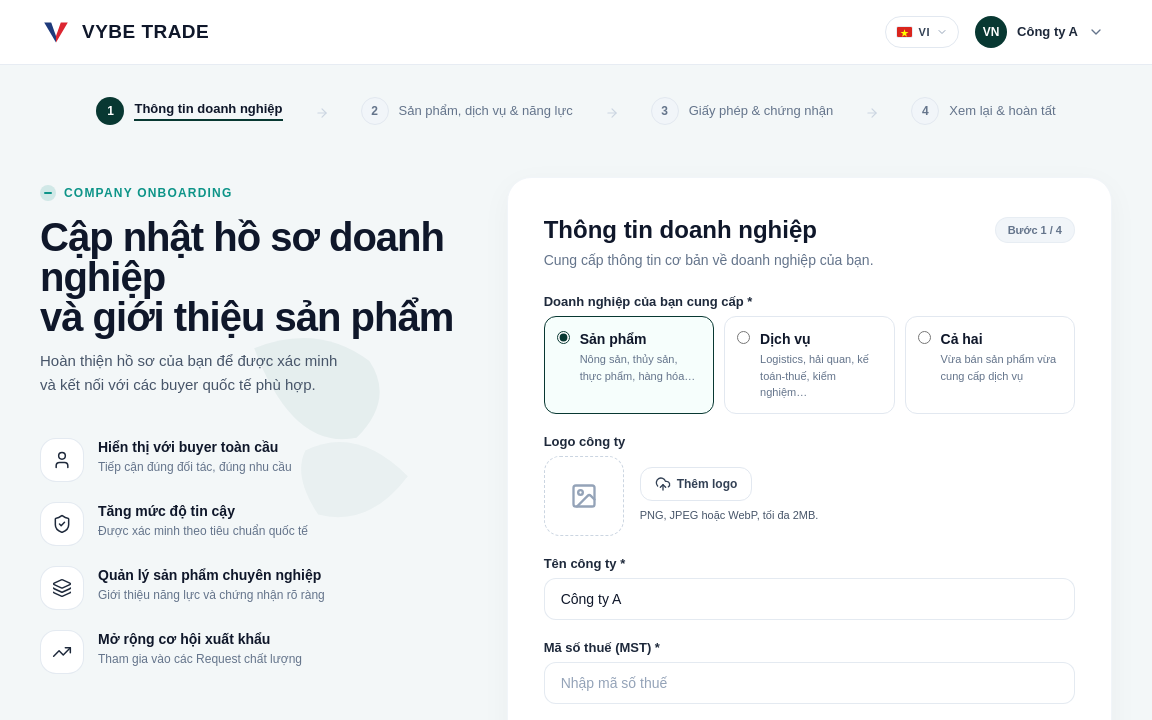
Scenario: A2 — wizard lưu nháp từng bước › bước 1: bấm Tiếp tục lưu công ty lên server rồi mới sang bước 2
In the field with placeholder "Nhập mã số thuế": (809, 682) [544, 662, 1075, 704], type "0312345678"
(page scrolled)
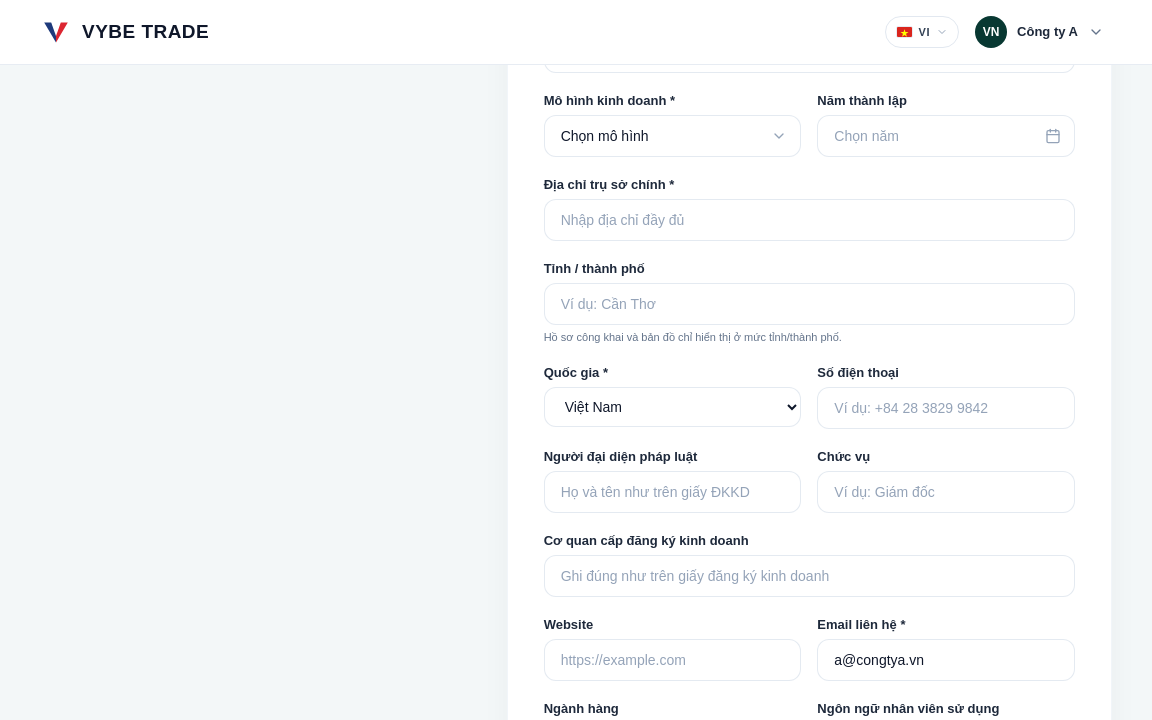
Submit the form with placeholder "Nhập mã số thuế"
(page scrolled)
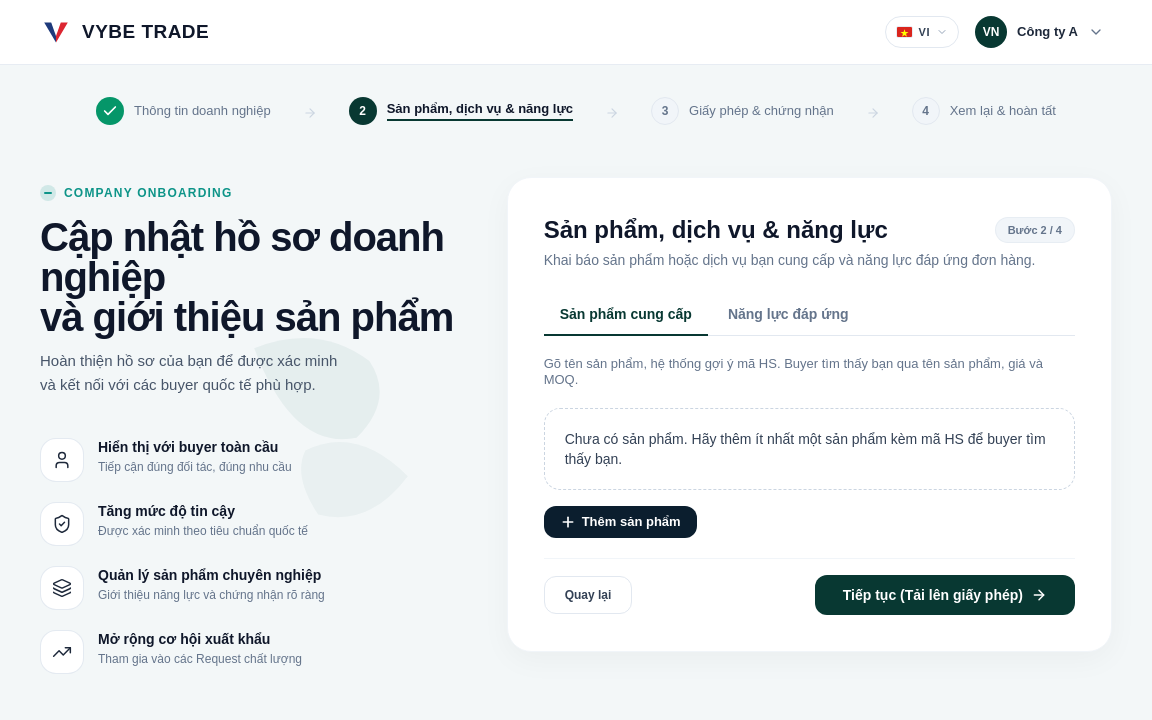
expect the button "Thêm sản phẩm" is shown: met, box [544, 506, 697, 538]
